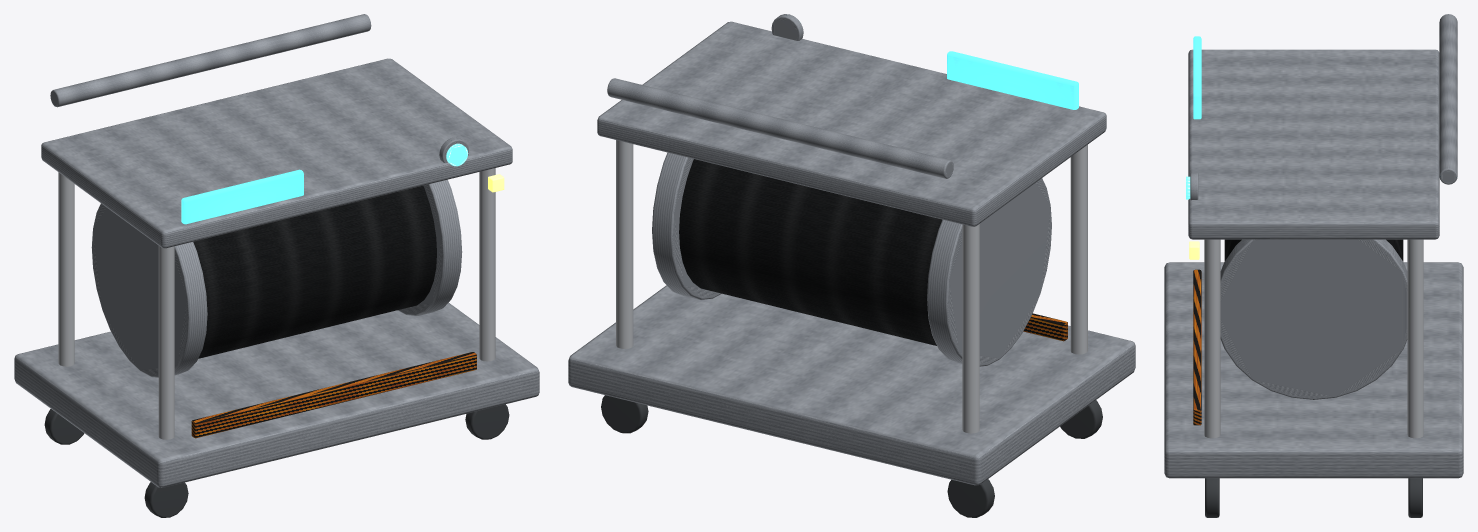
File: room_l1_img2_cable_reel_cart.glb
3 views of the same model, side by side, from view 1: azimuth 30°, elevation 25°; view 2: azimuth 150°, elevation 25°; view 3: azimuth 270°, elevation 25° (orthographic). The views are drawn at different scales.
Visible parts, largest first — view 1: cable_cart_lower_tray, cable_cart_upper_guard, nested_black_cable_loop_0, cable_reel_left_plate, cable_cart_push_handle, cable_cart_hazard_lip, cable_reel_right_plate, cable_cart_front_screen, cable_cart_post_0, cable_cart_post_2, cable_cart_post_1, cable_cart_wheel_0 (+2 smaller); view 2: cable_cart_lower_tray, cable_cart_upper_guard, nested_black_cable_loop_0, cable_reel_left_plate, cable_cart_push_handle, cable_reel_right_plate, cable_cart_front_screen, cable_cart_post_2, cable_cart_post_3, cable_cart_post_0, cable_cart_wheel_2, cable_cart_wheel_3 (+3 smaller); view 3: cable_cart_upper_guard, cable_cart_lower_tray, cable_reel_right_plate, cable_cart_post_1, cable_cart_post_3, cable_cart_push_handle, cable_cart_hazard_lip, cable_cart_front_screen, cable_cart_wheel_1, cable_cart_wheel_3, nested_black_cable_loop_0.
Part boxes in pixels (x1,y1,x2,y2): cable_cart_lower_tray: (14,302,539,487); cable_cart_upper_guard: (41,58,512,248); nested_black_cable_loop_0: (193,185,436,358); cable_reel_left_plate: (91,203,207,377); cable_cart_push_handle: (50,14,371,107); cable_cart_hazard_lip: (191,352,476,438); cable_reel_right_plate: (398,179,462,315); cable_cart_front_screen: (181,169,303,224); cable_cart_post_0: (158,246,174,439); cable_cart_post_2: (58,172,74,366); cable_cart_post_1: (479,168,495,361); cable_cart_wheel_0: (144,482,188,517); cable_cart_lower_tray: (568,285,1135,485); cable_cart_upper_guard: (597,21,1106,226); nested_black_cable_loop_0: (679,159,941,345); cable_reel_left_plate: (927,178,1051,366); cable_cart_push_handle: (607,78,953,178); cable_reel_right_plate: (652,152,721,299); cable_cart_front_screen: (947,51,1078,109); cable_cart_post_2: (962,224,979,433); cable_cart_post_3: (616,140,633,348); cable_cart_post_0: (1070,144,1087,354); cable_cart_wheel_2: (947,479,994,517); cable_cart_wheel_3: (601,395,648,433); cable_cart_upper_guard: (1188,49,1439,239); cable_cart_lower_tray: (1164,262,1463,478); cable_reel_right_plate: (1220,239,1407,399); cable_cart_post_1: (1204,239,1220,438); cable_cart_post_3: (1407,239,1423,438); cable_cart_push_handle: (1439,14,1457,184); cable_cart_hazard_lip: (1193,269,1201,425); cable_cart_front_screen: (1193,36,1201,119); cable_cart_wheel_1: (1205,478,1219,517); cable_cart_wheel_3: (1408,478,1422,517); nested_black_cable_loop_0: (1224,239,1403,261).
Size of the model in its own units: 1.08 by 0.917 by 0.72.
8 materials, 5 textured.
